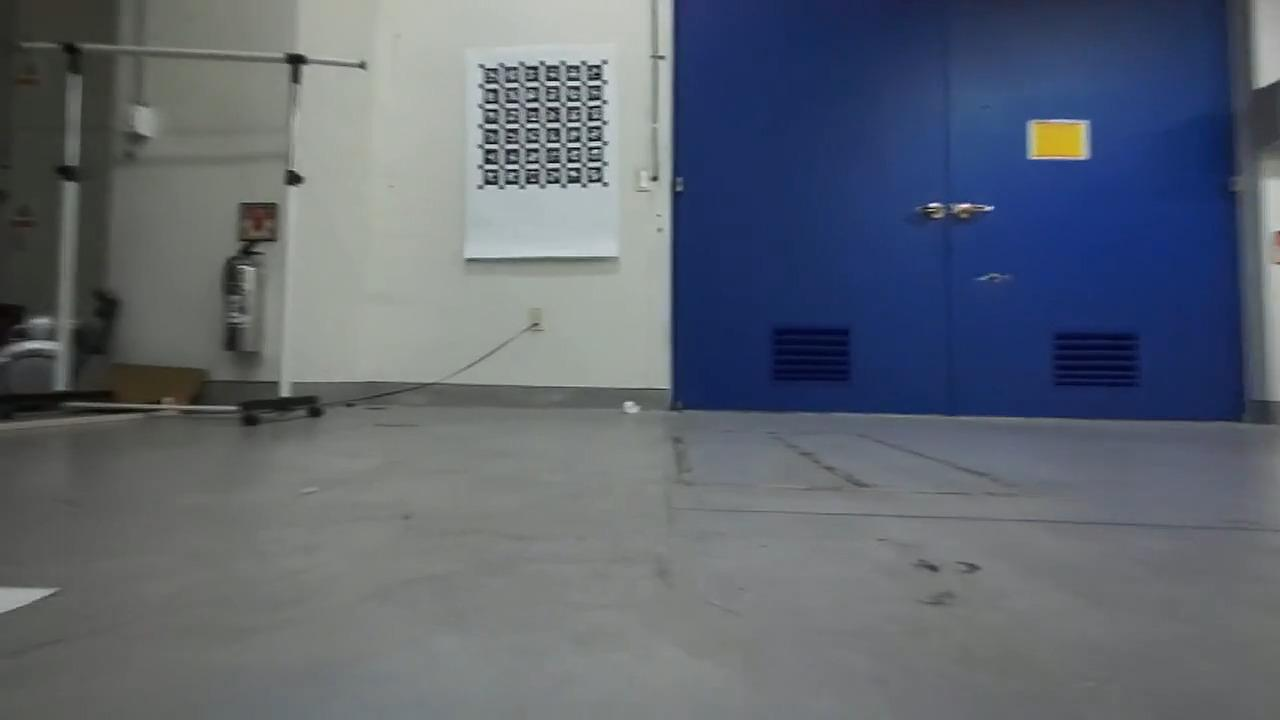crazyflie: (974, 268, 1014, 289)
